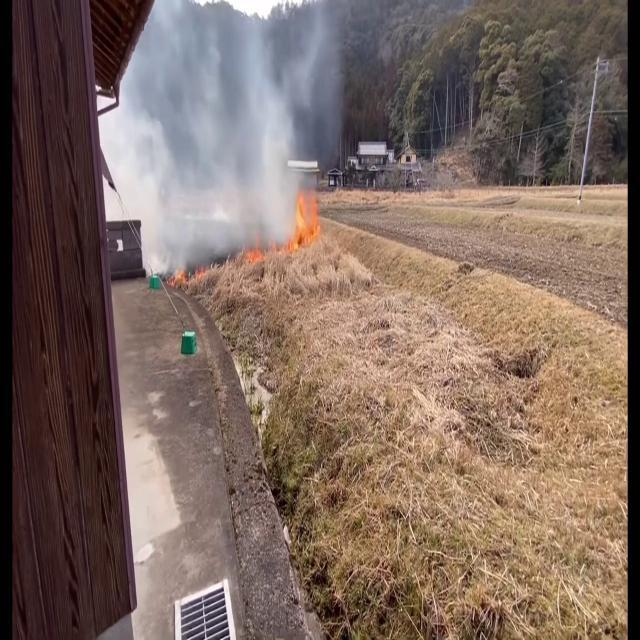Fire: (288, 181, 322, 252)
Smoke: (102, 0, 334, 259)
